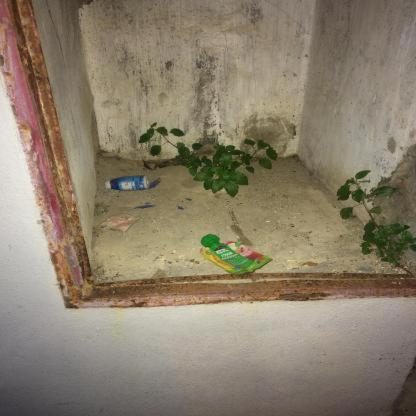Bottle cap: (106, 175, 150, 191)
Other litter: (201, 234, 273, 274)
Other plastic: (146, 177, 160, 189), (135, 205, 157, 209), (178, 206, 184, 210), (186, 199, 192, 202), (144, 203, 151, 205)
Plastic bag - wrapper: (97, 214, 142, 233)
